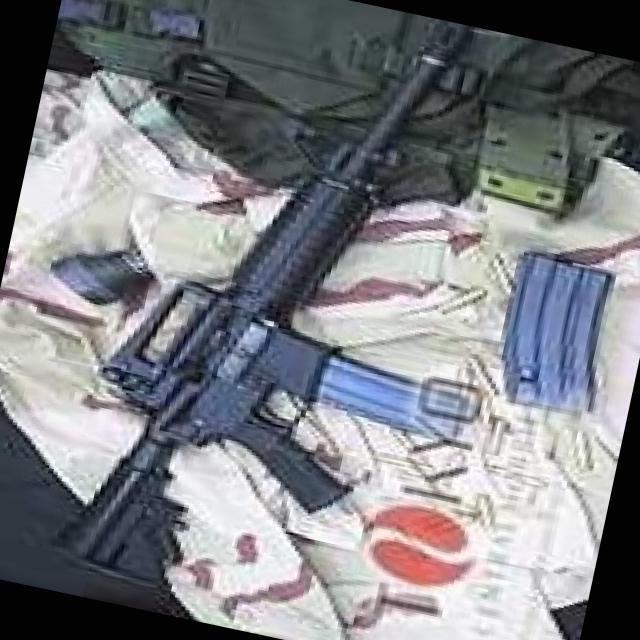long weapon: (42, 0, 509, 634)
